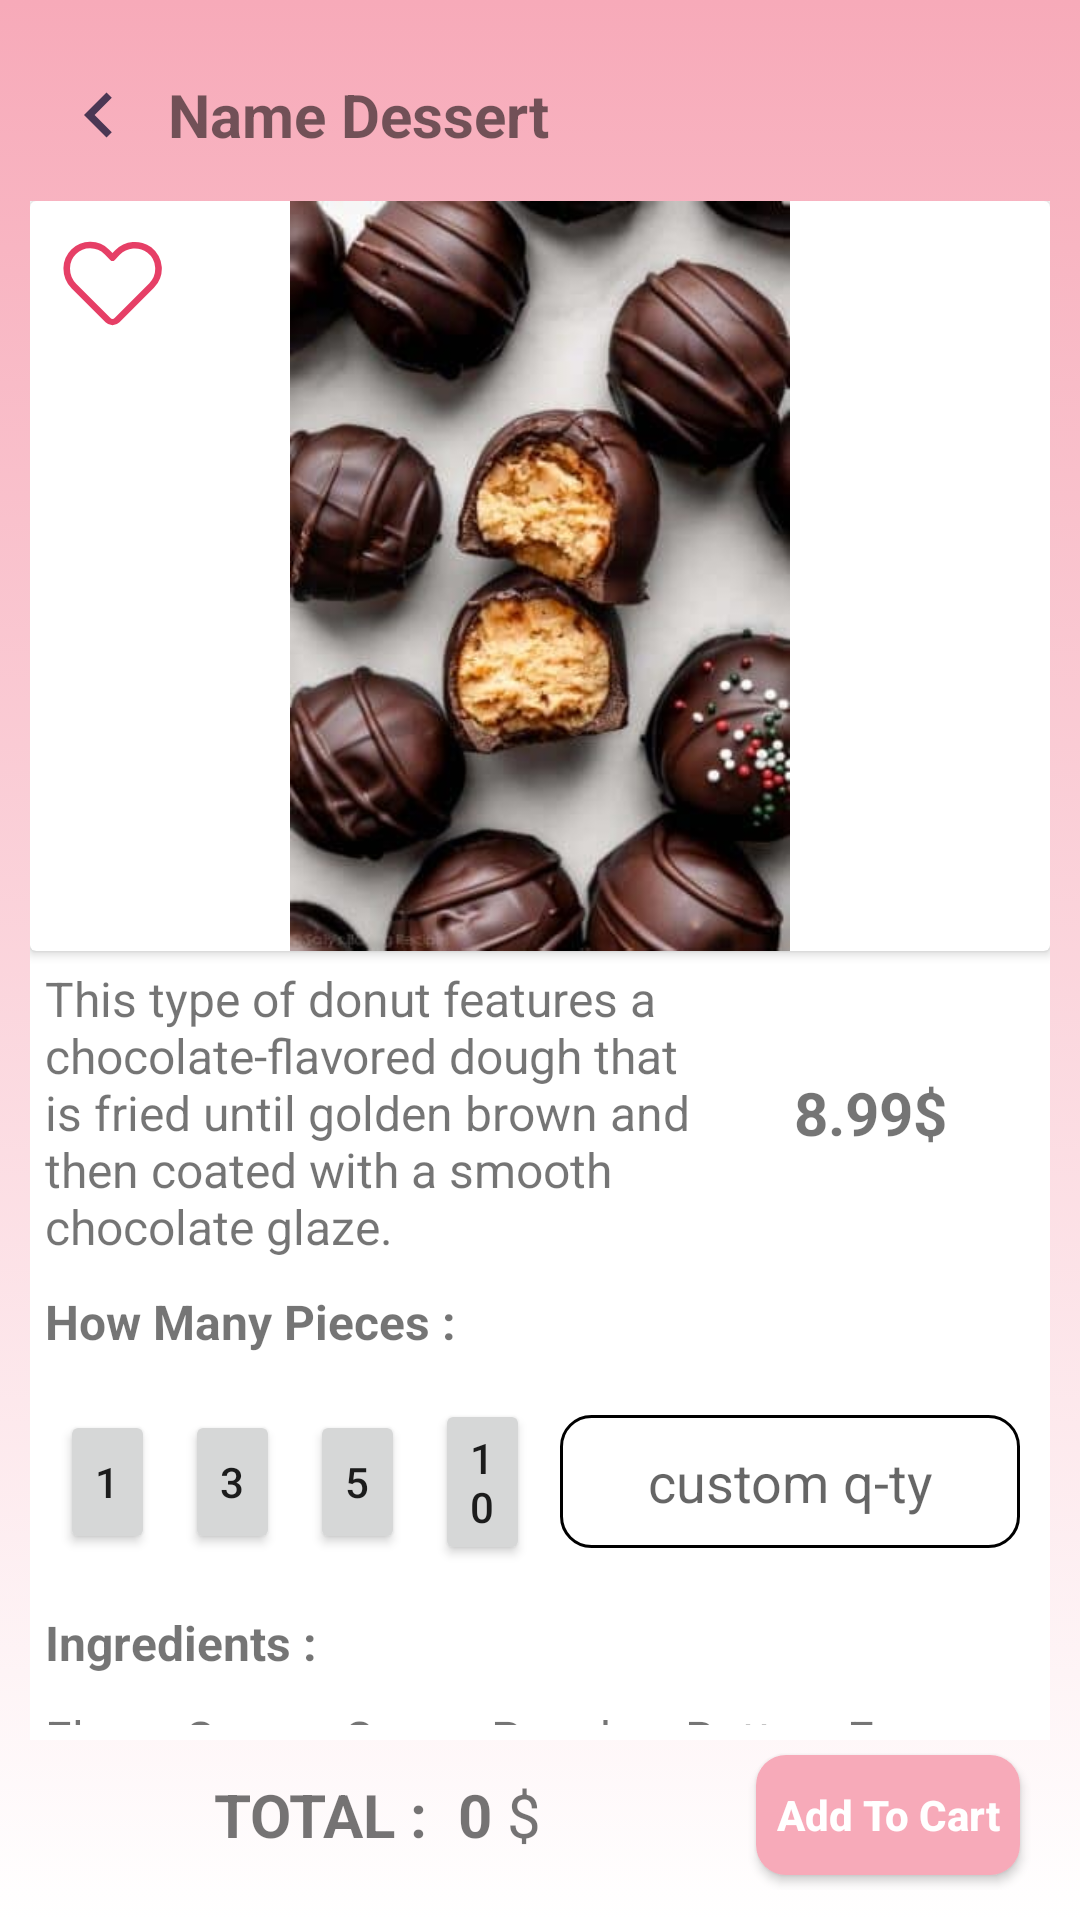

Icons on this 1080×1920 Android screen, each with its box as (x1=x1, y1=y1, x2=x2, y2=y2):
favorite empty: (x1=63, y1=241, x2=162, y2=326)
